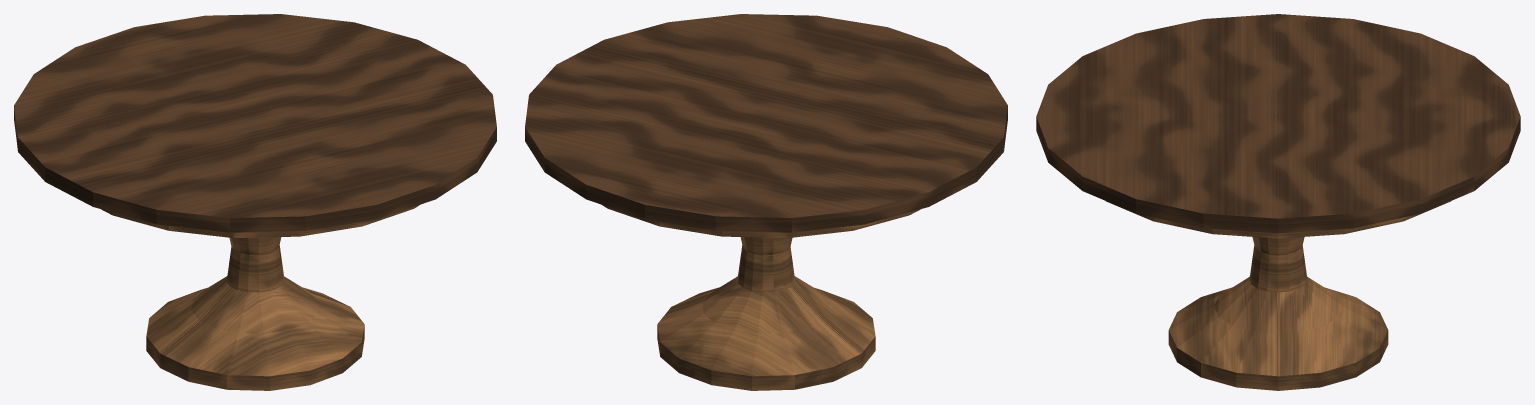
The model's file is round_table.fbx.
3 views of the same model, side by side, from view 1: azimuth 30°, elevation 25°; view 2: azimuth 150°, elevation 25°; view 3: azimuth 270°, elevation 25° (orthographic).
Parts seen in each view (by area): view 1: round_table; view 2: round_table; view 3: round_table.
Part boxes in pixels (bbox=[...]): round_table: bbox=[14, 14, 496, 390]; round_table: bbox=[525, 14, 1007, 390]; round_table: bbox=[1036, 14, 1520, 390].
Size of the model in its own units: 150 by 78 by 150.
